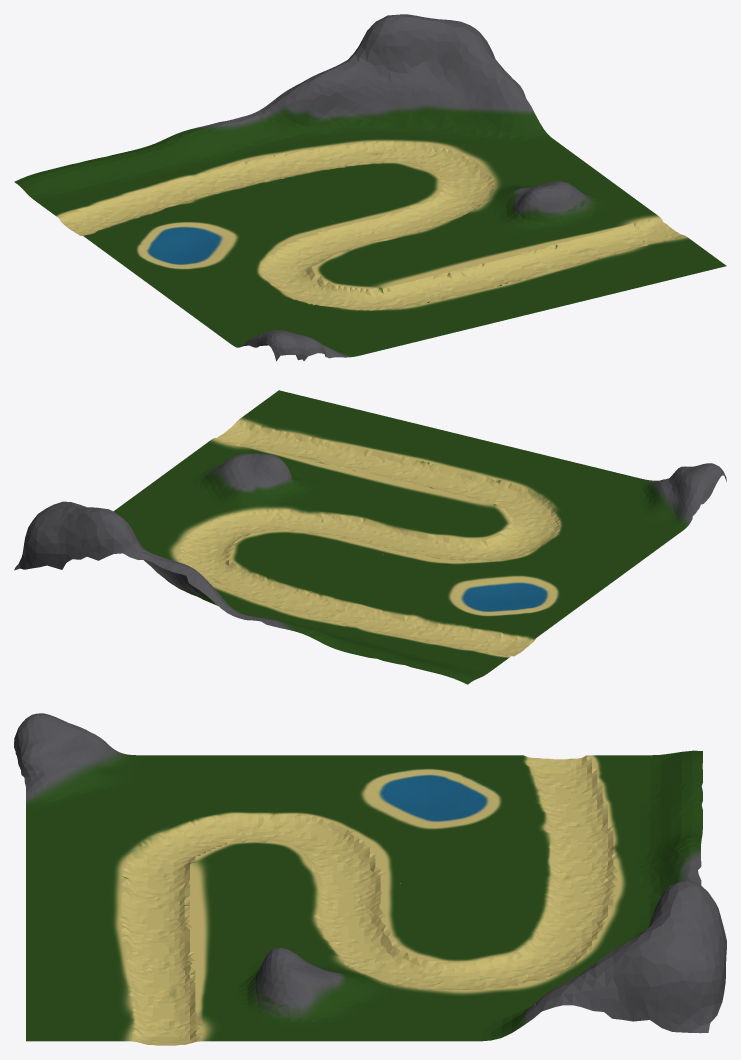
File: ground_hill.glb
The picture shows the model from 3 angles, top to bottom: view 1: azimuth 30°, elevation 25°; view 2: azimuth 150°, elevation 25°; view 3: azimuth 270°, elevation 25°; orthographic projection. The views are drawn at different scales.
Parts seen in each view (by area): view 1: Plane; view 2: Plane; view 3: Plane.
Boxes of the visible parts, x1,y1,x2,y2 form: Plane: [14, 14, 726, 361]; Plane: [14, 390, 726, 684]; Plane: [14, 713, 726, 1045].
Bounding box in the file's own units: 81.93 × 15.12 × 84.24.
Materials: 1 (1 with a texture image).
